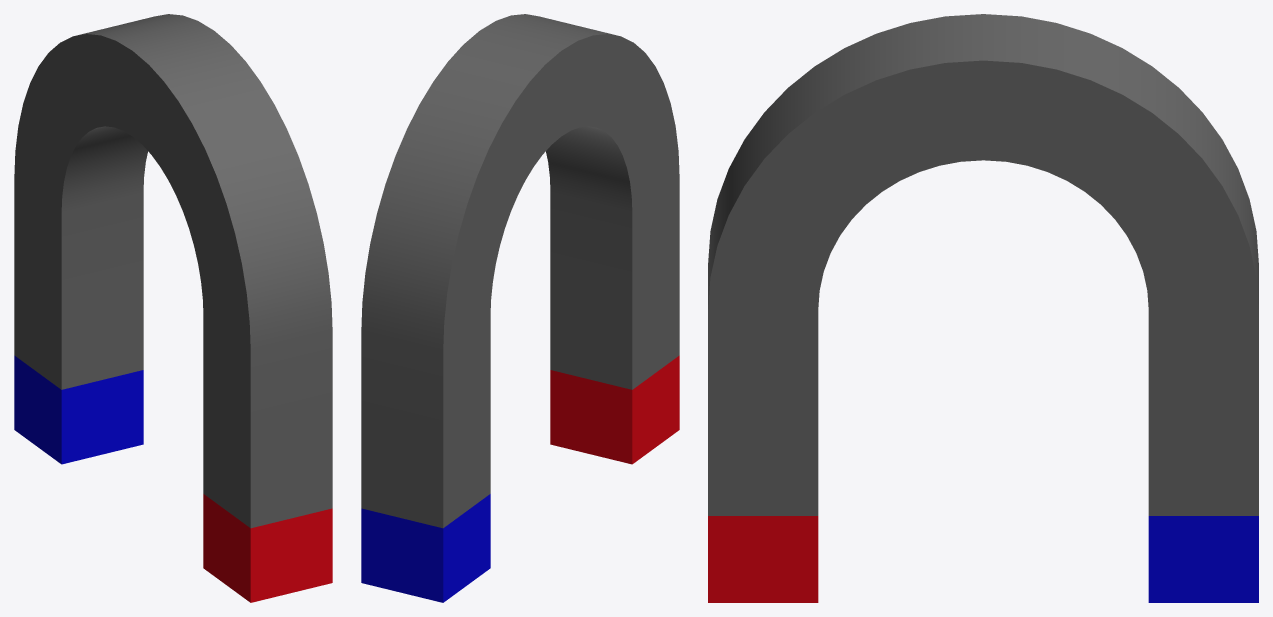
Rendered from Magnet.fbx.
3 renders of one model, left to right at view 1: azimuth 30°, elevation 25°; view 2: azimuth 150°, elevation 25°; view 3: azimuth 270°, elevation 25°, orthographic. The views are drawn at different scales.
Visible parts, largest first — view 1: Cube; view 2: Cube; view 3: Cube.
Part boxes in pixels (<box>): Cube: <box>14,14,332,602</box>; Cube: <box>361,14,679,602</box>; Cube: <box>708,14,1258,602</box>.
Bounding box in the file's own units: 200 × 1087 × 1000.
